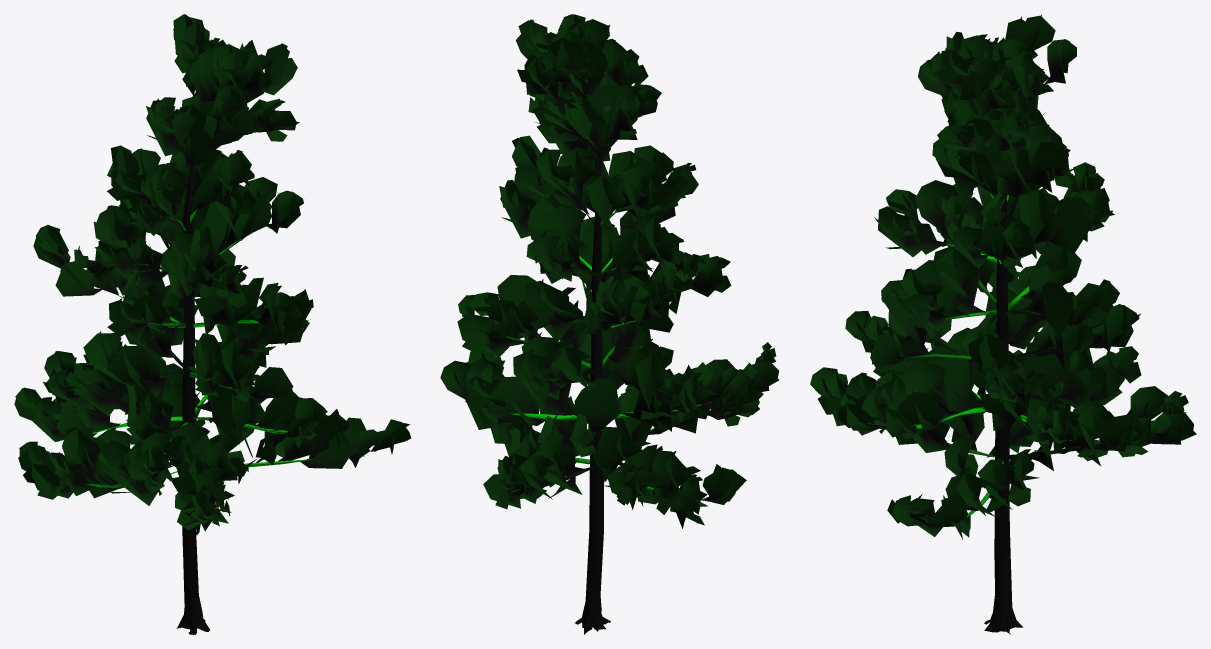
Rendered from TTFE_Pine Mid.fbx.
The picture shows the model from 3 angles, left to right: view 1: azimuth 30°, elevation 25°; view 2: azimuth 150°, elevation 25°; view 3: azimuth 270°, elevation 25°; orthographic projection. The views are drawn at different scales.
Visible parts, largest first — view 1: TTFE_Pine Mid; view 2: TTFE_Pine Mid; view 3: TTFE_Pine Mid.
Boxes of the visible parts, x1,y1,x2,y2 form: TTFE_Pine Mid: (14, 14, 411, 634); TTFE_Pine Mid: (440, 14, 779, 634); TTFE_Pine Mid: (810, 14, 1196, 634).
Size of the model in its own units: 6.64 by 11.62 by 6.62.
